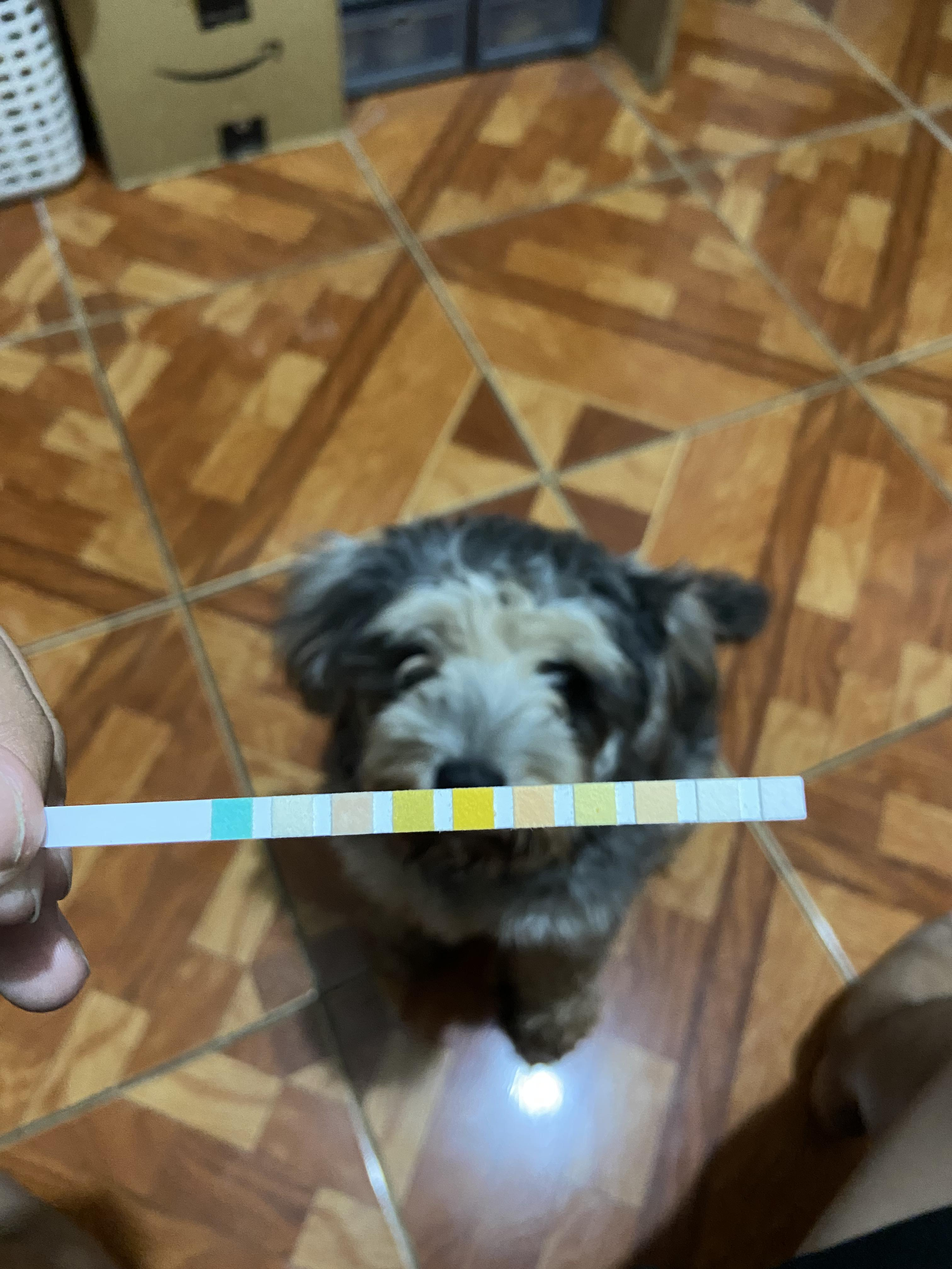Bilirubin: (273, 797, 313, 836)
Blood: (454, 789, 493, 829)
Glucose: (213, 800, 252, 837)
Ketone: (333, 794, 372, 833)
Leukocytes: (761, 778, 803, 819)
Nitrite: (699, 781, 738, 822)
Protein: (575, 785, 614, 825)
SpGravity: (394, 791, 433, 831)
Urobilinogen: (637, 783, 676, 824)
pH: (514, 787, 554, 827)
strip: (52, 776, 808, 848)
